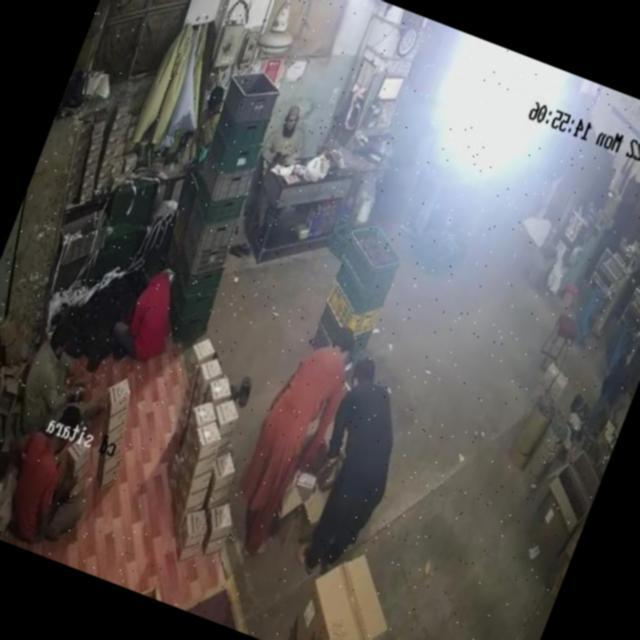person: (230, 314, 358, 537), (286, 358, 421, 564), (0, 398, 86, 544), (109, 248, 187, 364), (18, 324, 92, 418), (252, 102, 308, 191), (187, 78, 228, 158)
